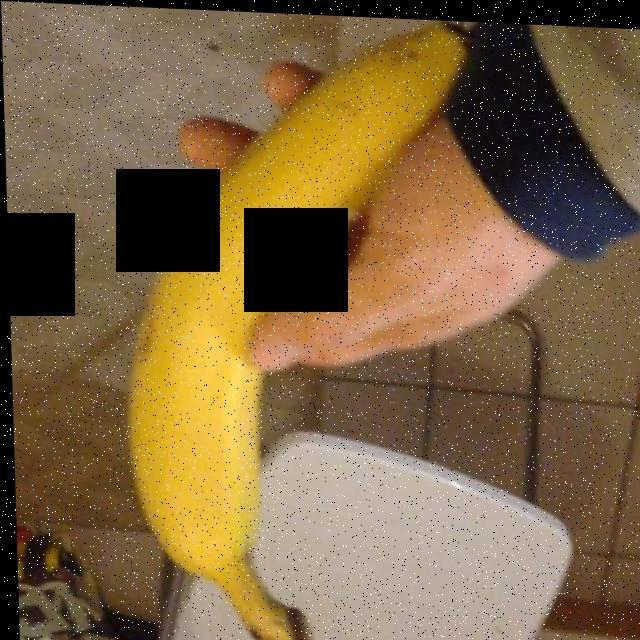banana: (121, 24, 463, 640), (127, 23, 461, 640)
